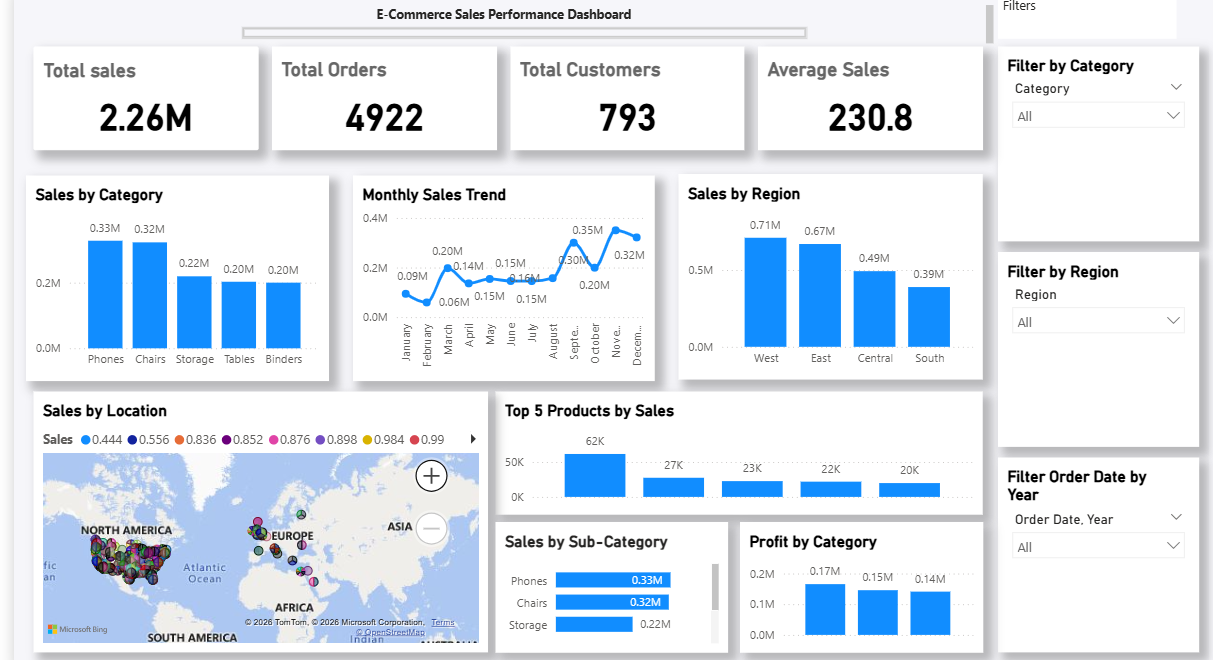

Layout of this report page (visuals, bound fields, positions):
{"tool":"powerbi","page":{"name":"Page 1","canvas":[1280,720],"ordinal":0},"visuals":[{"type":"card","title":"Total sales","fields":{"Values":["Sum(train.Sales)"]},"box":[20.5,59.5,238.6,109.8],"z":0},{"type":"clusteredColumnChart","title":" Sales by Region","fields":{"Category":["train.Region"],"Y":["Sum(train.Sales)"]},"box":[704.6,194.1,322.9,217.9],"z":1000},{"type":"lineChart","title":"Monthly Sales Trend","fields":{"Y":["Sum(train.Sales)"],"Category":["train.Order Date.Variation.Date Hierarchy.Month"]},"box":[359.5,195.6,319.7,217.9],"z":2000},{"type":"slicer","title":"Filter by Category","fields":{"Values":["train.Category"]},"box":[1043.4,58.9,213.1,206.8],"z":3000},{"type":"card","title":"Total Orders","fields":{"Values":["Count(train.Order ID)"]},"box":[273.4,59.5,238.6,109.8],"z":4000},{"type":"card","title":"Total Customers","fields":{"Values":["Count(train.Customer ID)"]},"box":[526.3,59.5,248.1,109.8],"z":5000},{"type":"card","title":"Average Sales","fields":{"Values":["Avg(train.Sales)"]},"box":[788.8,59.5,238.6,109.8],"z":6000},{"type":"clusteredColumnChart","title":"Top 5 Products by Sales","fields":{"Category":["train.Product Name"],"Y":["Sum(train.Sales)"]},"box":[510.6,424.7,516.9,130.4],"z":7000},{"type":"clusteredColumnChart","title":"Sales by Category","fields":{"Category":["train.Sub-Category"],"Y":["Sum(train.Sales)"]},"box":[12.7,195.6,321.3,217.9],"z":8000},{"type":"map","title":"Sales by Location","fields":{"Category":["train.City"],"Series":["train.Sales"]},"box":[20,425,481.7,276.7],"z":9000},{"type":"slicer","title":"Filter by Region","fields":{"Values":["train.Region"]},"box":[1043.4,276.8,213.1,206.8],"z":10000},{"type":"slicer","title":"Filter Order Date by Year","fields":{"Values":["train.Order Date","train.Order Date.Variation.Date Hierarchy.Year"]},"box":[1043.4,494.7,213.1,206.8],"z":11000},{"type":"clusteredBarChart","title":"Sales by Sub-Category","fields":{"Category":["train.Sub-Category"],"Y":["Sum(train.Sales)"]},"box":[510.6,563.1,246.5,138.4],"z":12000},{"type":"clusteredColumnChart","fields":{"Category":["train.Category"],"Y":["train.Profit"]},"box":[769.9,563.1,257.7,138.4],"z":13000},{"type":"textbox","box":[0,10,1043.4,57.3],"z":14000},{"type":"shape","box":[241.8,38.2,599.7,12.7],"z":15000},{"type":"textbox","box":[1043.4,0,189.3,50.9],"z":16000}]}

Visuals, with their boxes on the page's 1280x720 design canvas (x1, y1, x2, y2). These are canvas units, not pixel positions in the 1213x660 screenshot, which may show the page scaled, cropped or inside an application window:
"Total sales" card: l=20, t=60, r=259, b=169
" Sales by Region" clusteredColumnChart: l=705, t=194, r=1028, b=412
"Monthly Sales Trend" lineChart: l=360, t=196, r=679, b=414
"Filter by Category" slicer: l=1043, t=59, r=1256, b=266
"Total Orders" card: l=273, t=60, r=512, b=169
"Total Customers" card: l=526, t=60, r=774, b=169
"Average Sales" card: l=789, t=60, r=1027, b=169
"Top 5 Products by Sales" clusteredColumnChart: l=511, t=425, r=1028, b=555
"Sales by Category" clusteredColumnChart: l=13, t=196, r=334, b=414
"Sales by Location" map: l=20, t=425, r=502, b=702
"Filter by Region" slicer: l=1043, t=277, r=1256, b=484
"Filter Order Date by Year" slicer: l=1043, t=495, r=1256, b=702
"Sales by Sub-Category" clusteredBarChart: l=511, t=563, r=757, b=702
clusteredColumnChart - train.Category x train.Profit: l=770, t=563, r=1028, b=702
textbox: l=0, t=10, r=1043, b=67
shape: l=242, t=38, r=842, b=51
textbox: l=1043, t=0, r=1233, b=51
